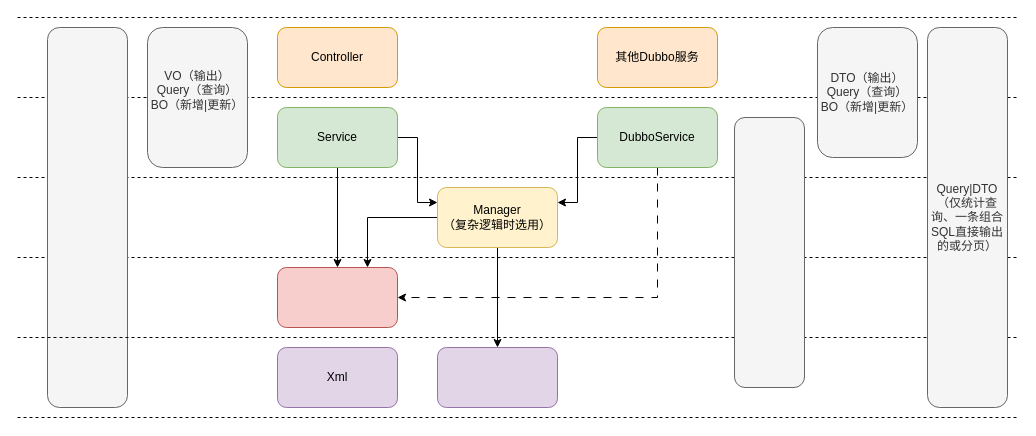
This 1036x436 diagram has some shape labels left out. The shapes that lost their labels are listed below. From the top down, each one's centre as x and y in pixels, then its label:
At pixel 87 217: "Query| VO （仅统计查询、一条组合SQL直接输出的或分页）".
At pixel 769 252: "DO".
At pixel 337 297: "Mapper".
At pixel 497 377: "第三方接口或RPC服务".
